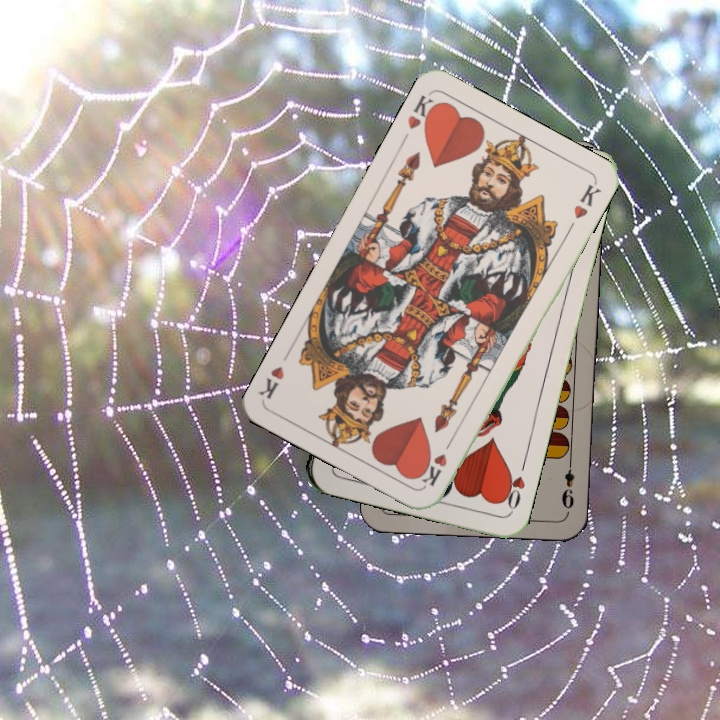E9: (558, 456, 577, 515)
HK: (417, 433, 456, 489), (403, 91, 442, 134)
HO: (497, 456, 529, 514)
